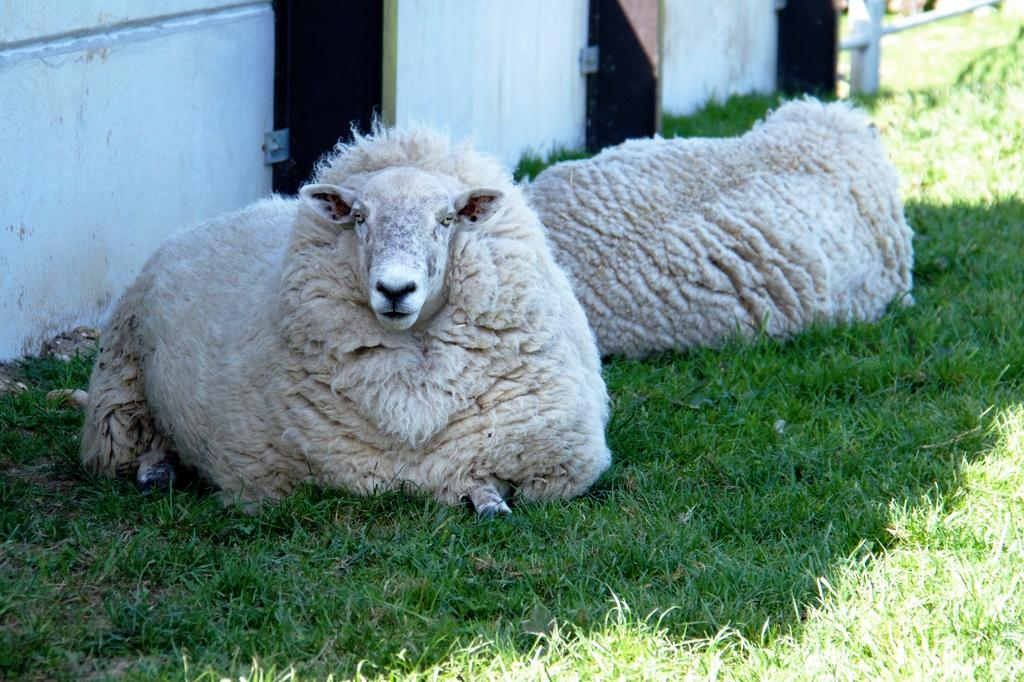Sheep: (80, 109, 612, 517), (518, 95, 912, 358)
